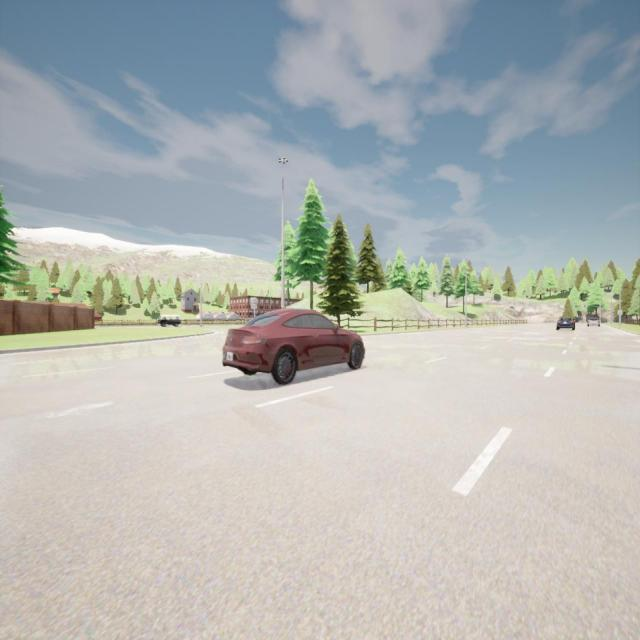Traffic_Signs: (618, 310, 622, 316)
Vehicle: (223, 309, 365, 383), (156, 314, 181, 328), (556, 316, 575, 331), (587, 316, 600, 328)
